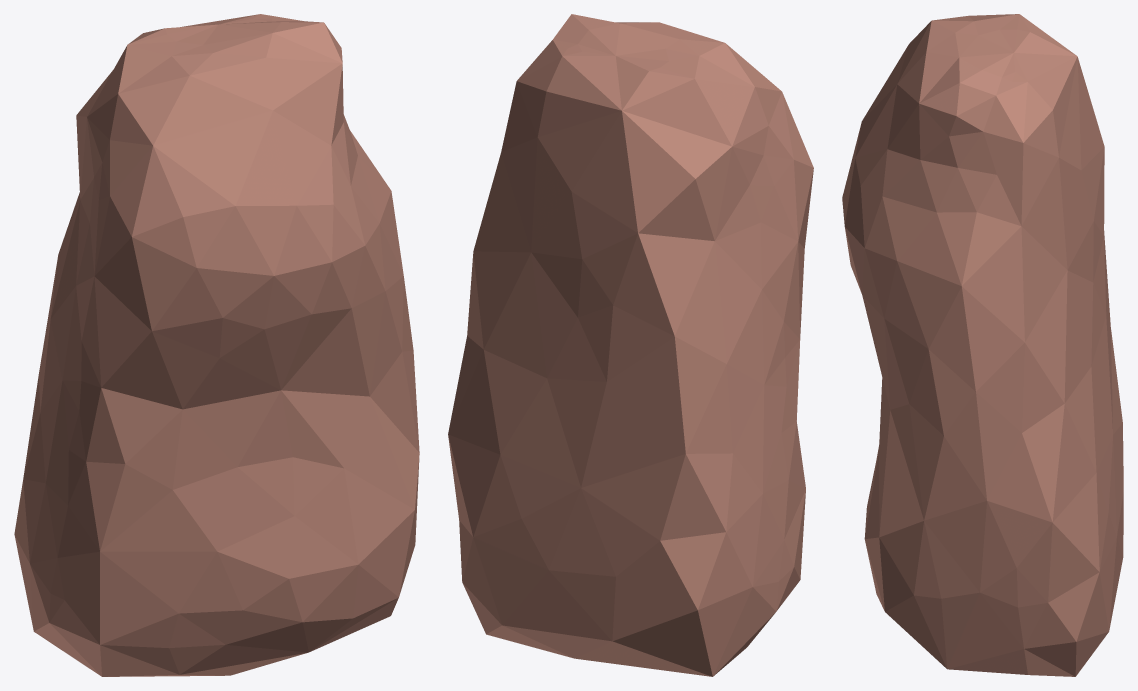
File: boulder_012.fbx
3 views of the same model, side by side, from view 1: azimuth 30°, elevation 25°; view 2: azimuth 150°, elevation 25°; view 3: azimuth 270°, elevation 25° (orthographic). The views are drawn at different scales.
Visible parts, largest first — view 1: boulder_012; view 2: boulder_012; view 3: boulder_012.
Boxes of the visible parts, x1,y1,x2,y2 form: boulder_012: (14,14,419,676); boulder_012: (448,14,813,676); boulder_012: (842,14,1123,676).
Size of the model in its own units: 959 by 743 by 1716.
